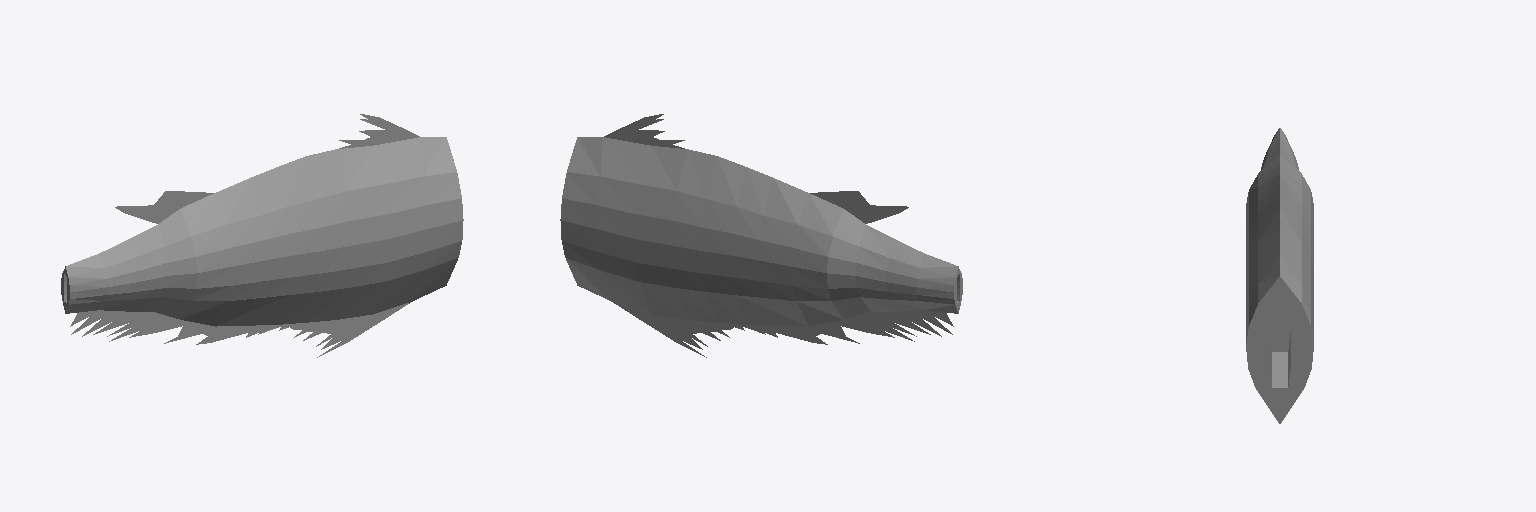
Rendered from CorpusFix.obj.
The picture shows the model from 3 angles: view 1: azimuth 30°, elevation 25°; view 2: azimuth 150°, elevation 25°; view 3: azimuth 270°, elevation 25°; orthographic projection.
Parts seen in each view (by area): view 1: corpus_Plane; view 2: corpus_Plane; view 3: corpus_Plane.
Boxes of the visible parts, x1,y1,x2,y2 form: corpus_Plane: [61, 114, 463, 357]; corpus_Plane: [560, 114, 962, 357]; corpus_Plane: [1246, 128, 1313, 423].
Bounding box in the file's own units: 0.9607 × 0.5673 × 0.1486.